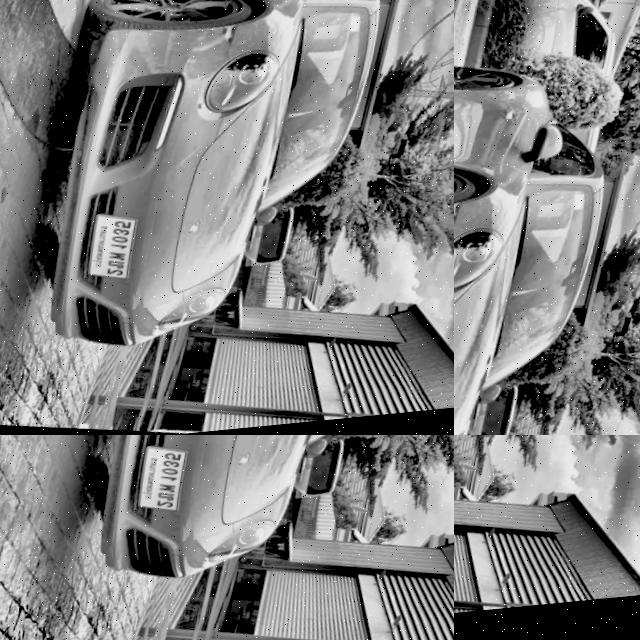license-plate: (107, 435, 225, 518), (426, 343, 454, 421)
